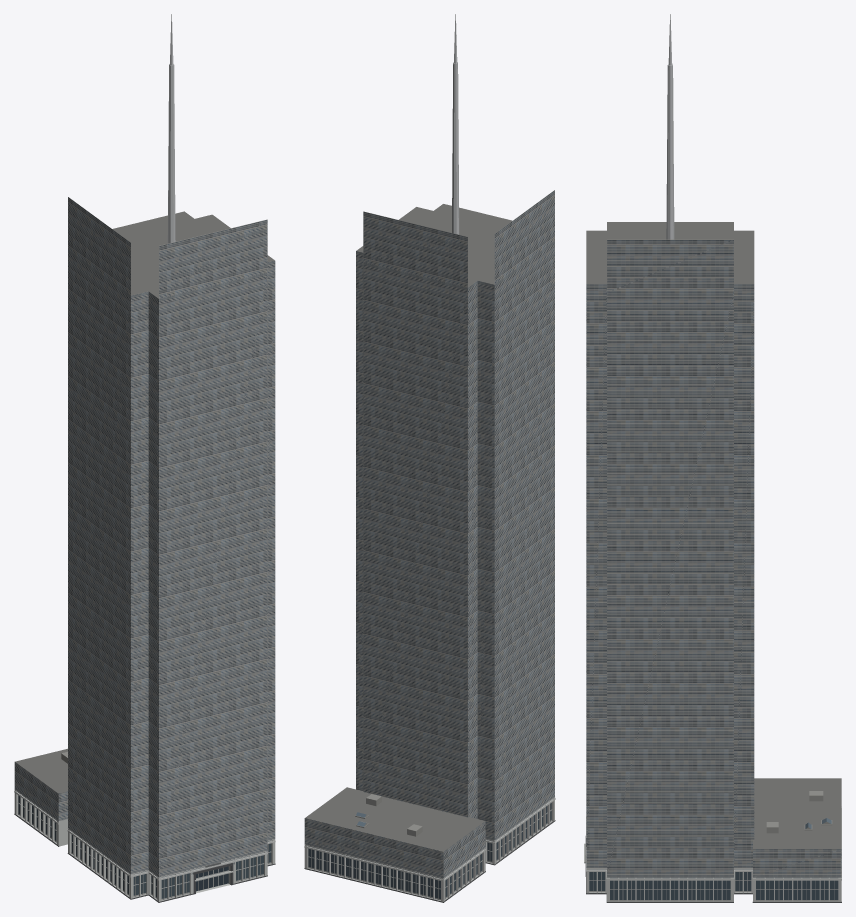
Rendered from new_york_times_building.glb.
3 renders of one model, left to right at view 1: azimuth 30°, elevation 25°; view 2: azimuth 150°, elevation 25°; view 3: azimuth 270°, elevation 25°, orthographic. The views are drawn at different scales.
Visible parts, largest first — view 1: new_york_times_building; view 2: new_york_times_building; view 3: new_york_times_building.
Part boxes in pixels (x1=…): new_york_times_building: x1=14, y1=14, x2=275, y2=902; new_york_times_building: x1=304, y1=14, x2=555, y2=902; new_york_times_building: x1=584, y1=14, x2=841, y2=902.
Bounding box in the file's own units: 57.24 × 319 × 87.36.
2 materials, 2 textured.
